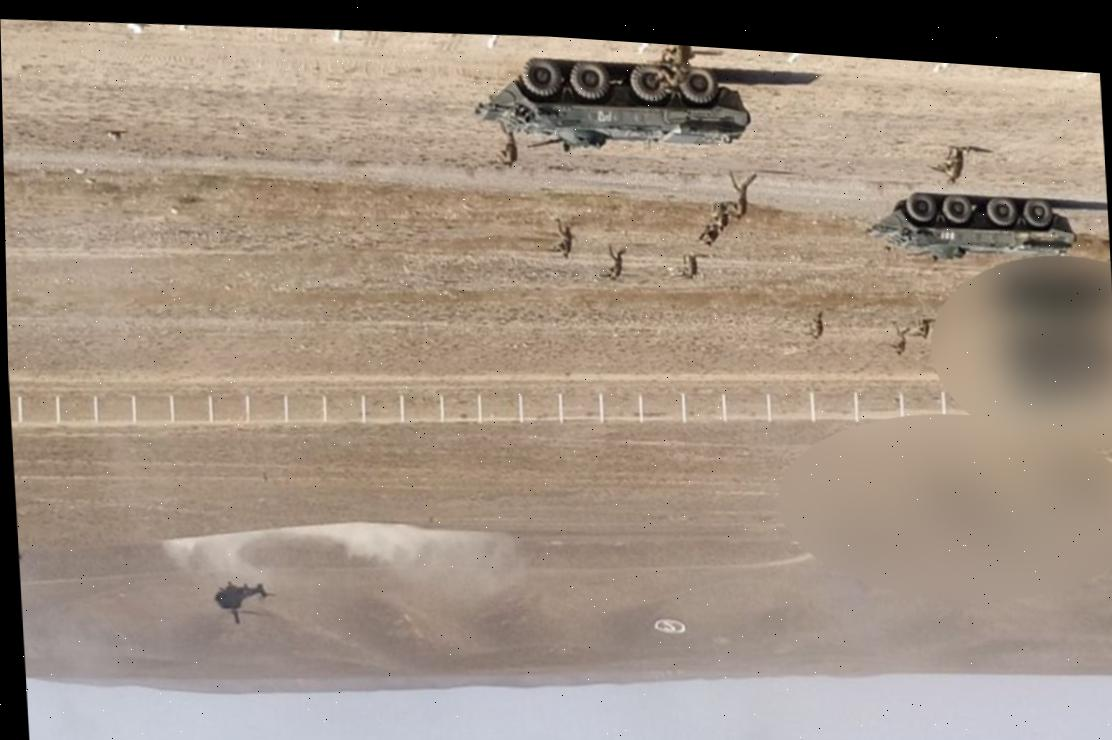armored_car: (474, 46, 755, 171), (869, 184, 1080, 272)
